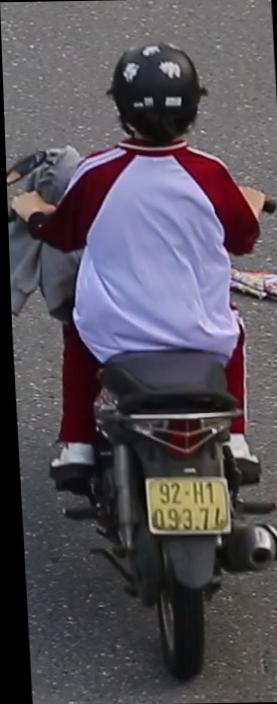LP: (138, 473, 231, 544)
helmet: (103, 35, 206, 160)
